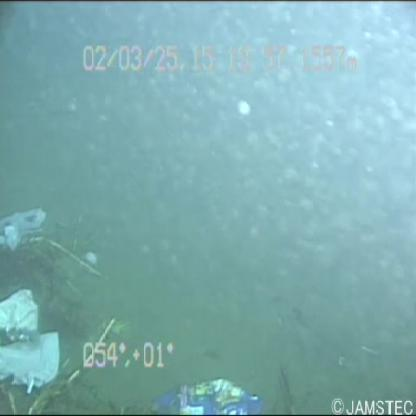Rác: (1, 265, 65, 395), (1, 194, 61, 244)
